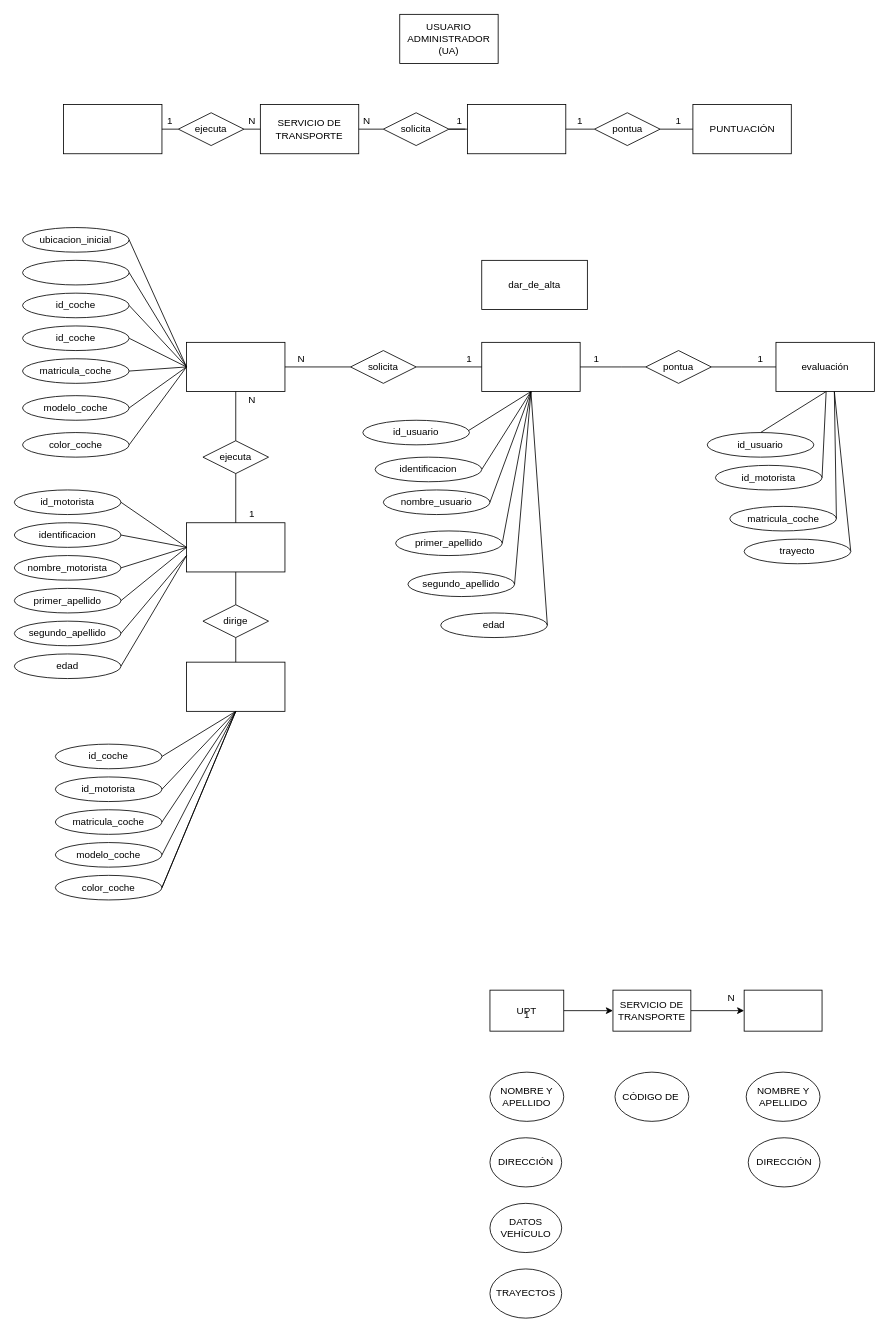
The diagram is 889 pixels wide and 1333 high, and some of its shapes have lost their labels. The centre of each missing label's shape, as x and y in pixels:
"coche" goes at [235,686].
"servicio_transporte" goes at [235,367].
"transportista" goes at [235,547].
"ubicacion-_final" goes at [75,272].
"UR" goes at [782,1010].
"usuario" goes at [530,367].
"USUARIO PROVISIONADOR DE TRANSPORTE (UPT)" goes at [112,129].
"USUARIO REGULAR (UR)" goes at [516,129].
